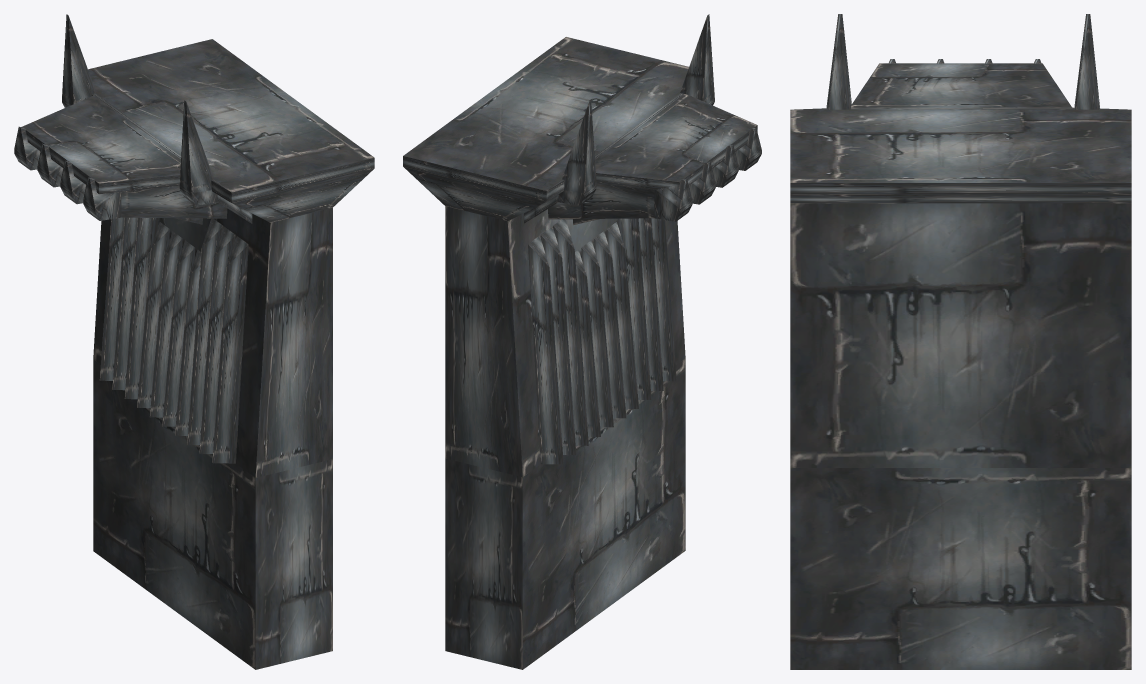
The model's file is Gate_Prop.fbx.
3 views of the same model, side by side, from view 1: azimuth 30°, elevation 25°; view 2: azimuth 150°, elevation 25°; view 3: azimuth 270°, elevation 25° (orthographic). The views are drawn at different scales.
Parts seen in each view (by area): view 1: icecrown_walk_nb_04; view 2: icecrown_walk_nb_04; view 3: icecrown_walk_nb_04.
Part boxes in pixels (x1,y1,x2,y2): icecrown_walk_nb_04: [14, 14, 374, 669]; icecrown_walk_nb_04: [403, 14, 761, 669]; icecrown_walk_nb_04: [790, 14, 1131, 669].
Size of the model in its own units: 6840 by 15501 by 8101.
